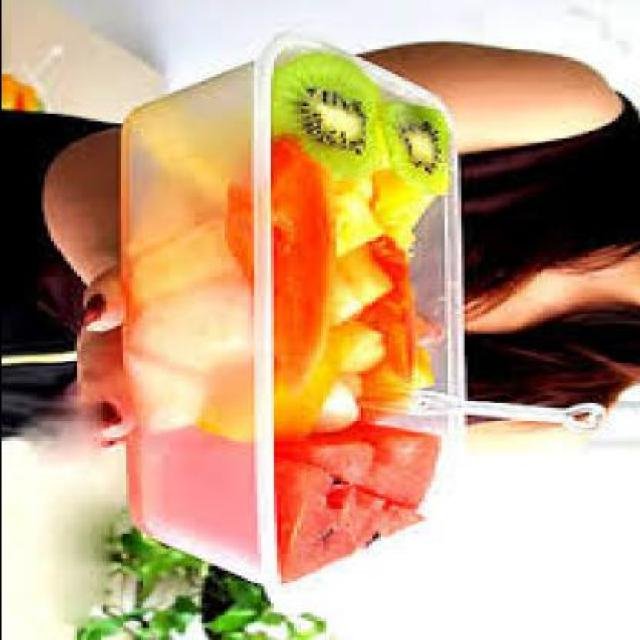BIODEGRADABLE: (227, 136, 331, 389), (210, 314, 364, 440), (279, 458, 433, 578), (276, 52, 381, 185), (275, 424, 443, 504), (365, 235, 423, 393), (388, 101, 449, 193), (332, 244, 393, 322), (384, 168, 436, 254), (308, 373, 367, 435), (331, 188, 384, 257), (328, 316, 390, 373), (417, 336, 440, 389)
PLASTIC: (118, 27, 470, 584), (364, 383, 610, 429)
